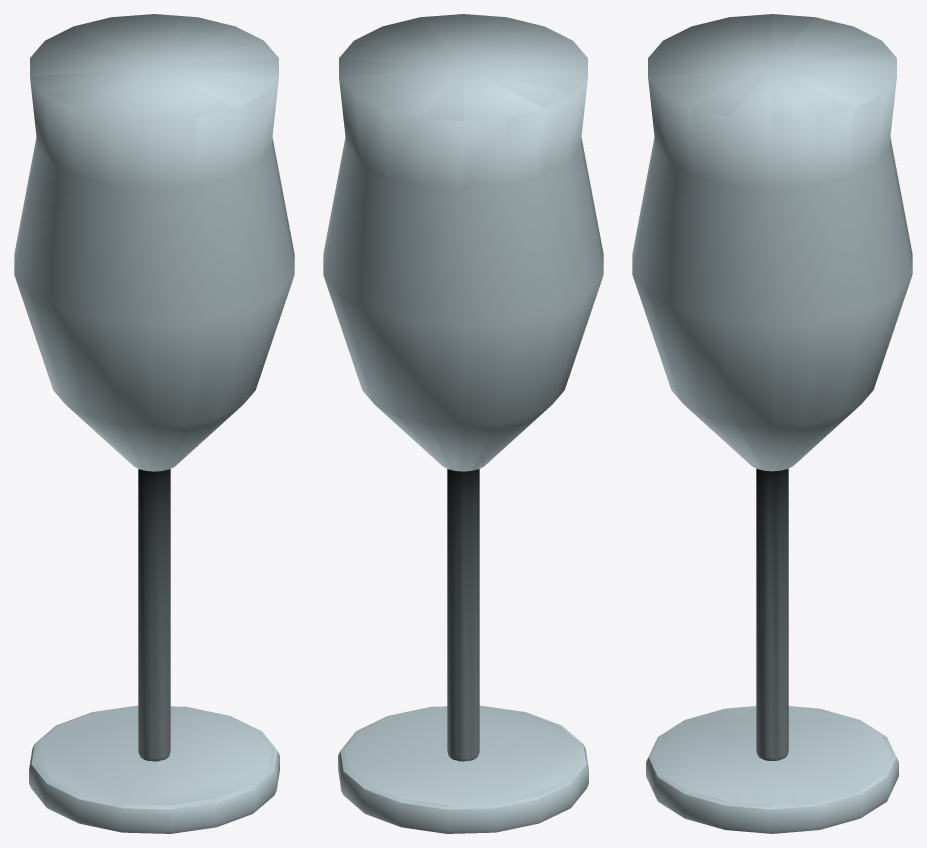
File: wine_glass.glb
The picture shows the model from 3 angles, left to right: view 1: azimuth 30°, elevation 25°; view 2: azimuth 150°, elevation 25°; view 3: azimuth 270°, elevation 25°; orthographic projection.
Visible parts, largest first — view 1: wine_glass; view 2: wine_glass; view 3: wine_glass.
Part boxes in pixels (x1,y1,x2,y2): wine_glass: [14, 14, 294, 833]; wine_glass: [323, 14, 603, 833]; wine_glass: [632, 14, 912, 833].
Bounding box in the file's own units: 0.072 × 0.2 × 0.0709.
